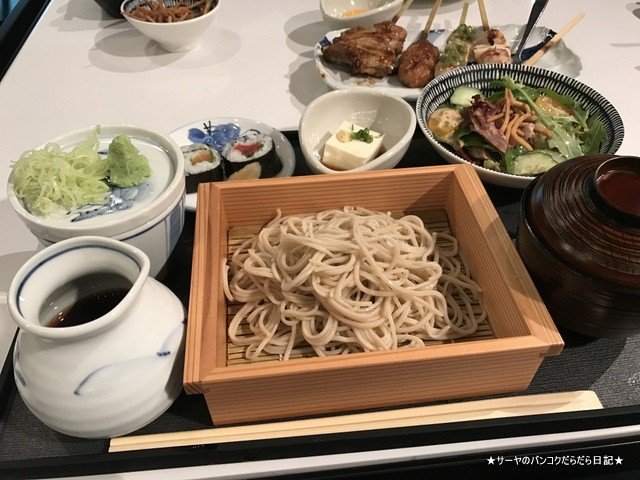Soba: (218, 209, 489, 357)
